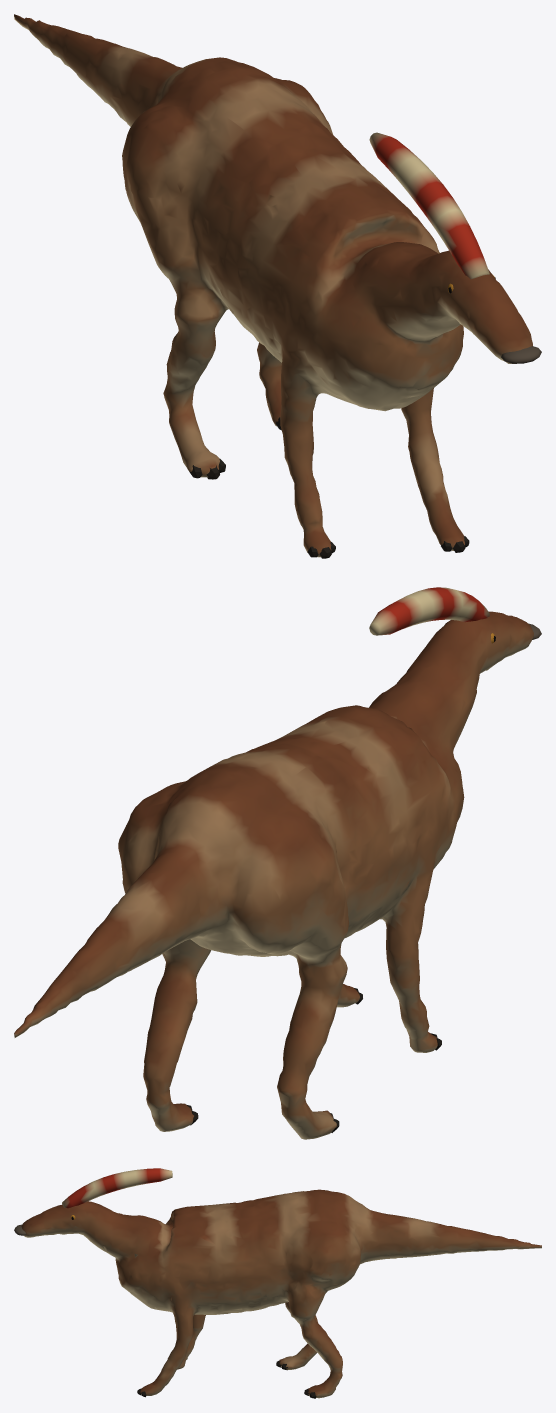
The model's file is Parasaurolophus.fbx.
The picture shows the model from 3 angles, top to bottom: view 1: azimuth 30°, elevation 25°; view 2: azimuth 150°, elevation 25°; view 3: azimuth 270°, elevation 25°; orthographic projection. The views are drawn at different scales.
Parts seen in each view (by area): view 1: Parasaurolophus; view 2: Parasaurolophus; view 3: Parasaurolophus.
Boxes of the visible parts, x1,y1,x2,y2 form: Parasaurolophus: [14, 14, 541, 558]; Parasaurolophus: [14, 587, 541, 1139]; Parasaurolophus: [14, 1168, 541, 1398].
Size of the model in its own units: 0.4169 by 0.842 by 1.88.
